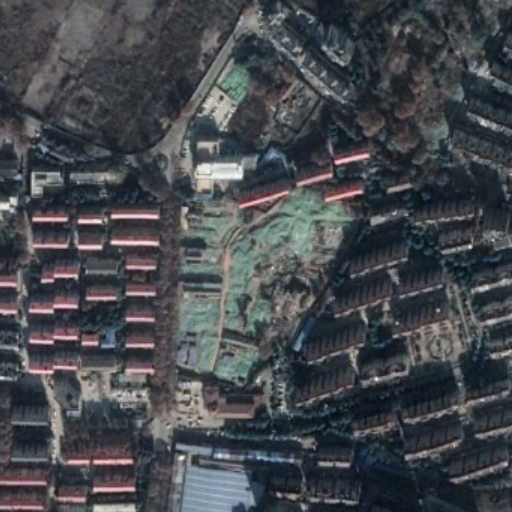cw: (176, 186, 353, 387)
